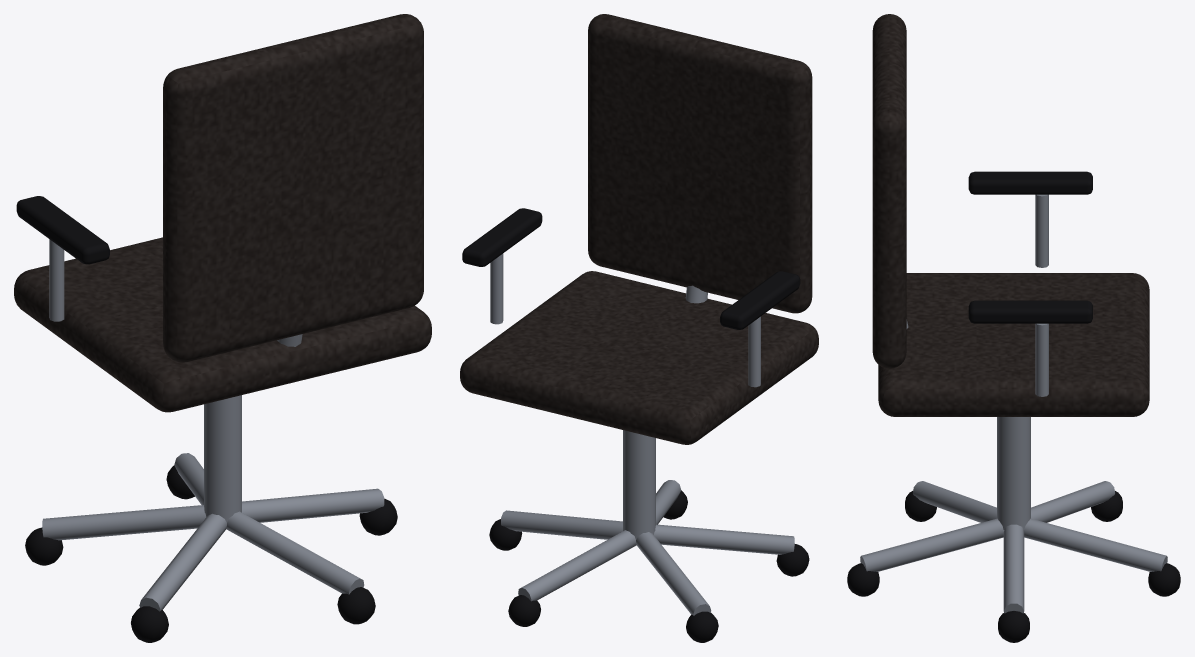
Rendered from BankOfficeChair.obj.
3 views of the same model, side by side, from view 1: azimuth 30°, elevation 25°; view 2: azimuth 150°, elevation 25°; view 3: azimuth 270°, elevation 25° (orthographic). The views are drawn at different scales.
Size of the model in its own units: 0.605 by 0.998 by 0.5897.
5 materials, 2 textured.
